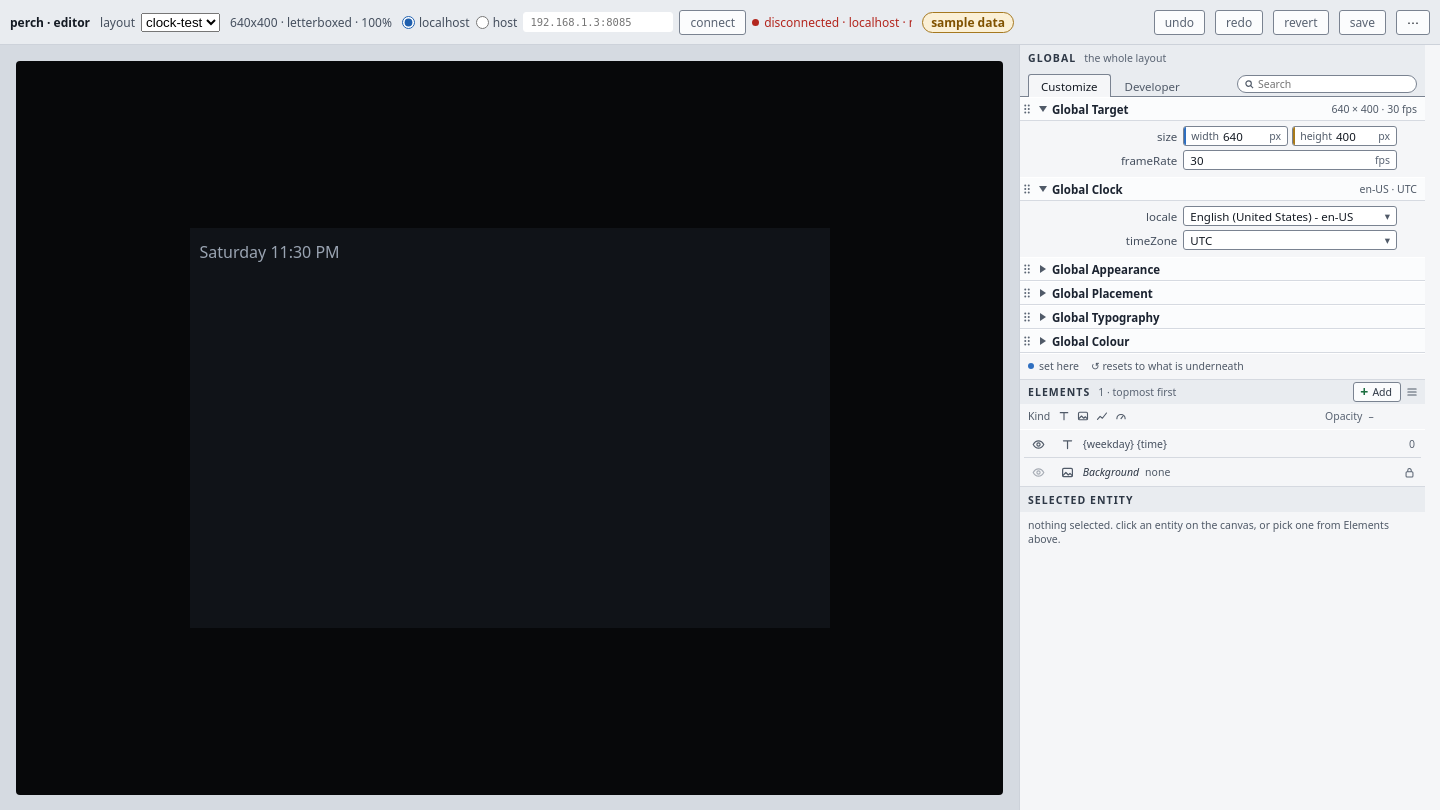
Test case: the layout clock rows › lists System default first, then common locales each in its own language
Click the button named "locale": (1290, 216) [1183, 206, 1397, 226]
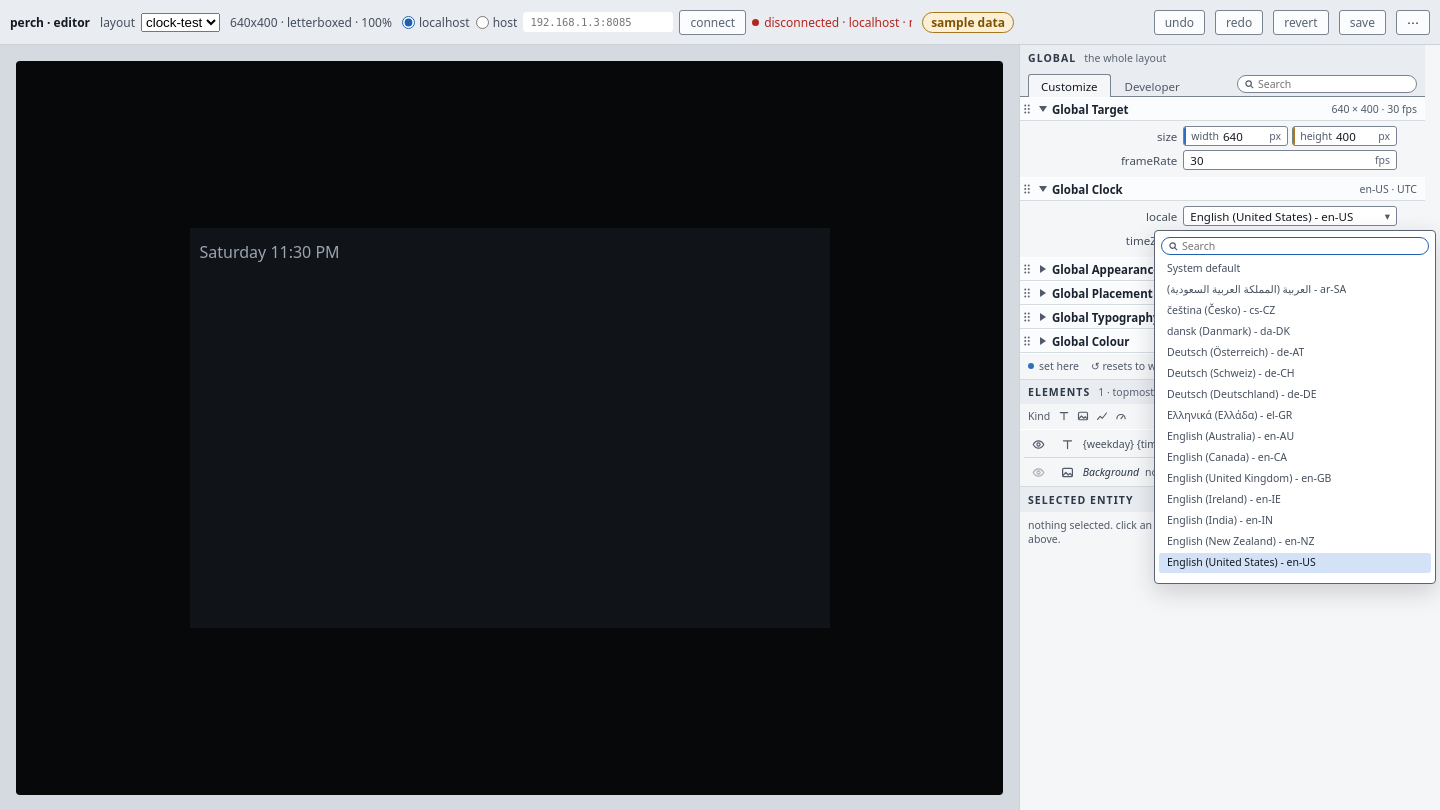
expect the text "System default" is shown: met, box [1167, 261, 1240, 275]
